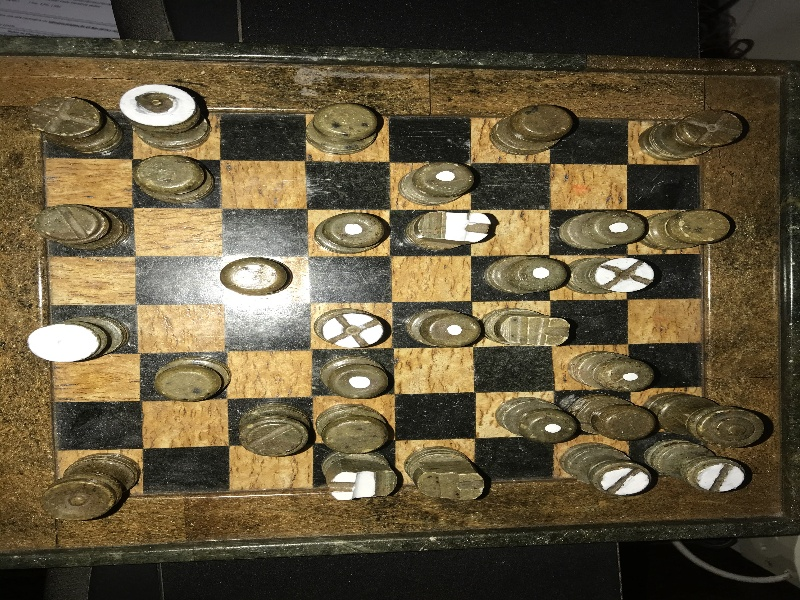WhiteBishop: (563, 258, 653, 294), (312, 309, 383, 347)
WhitePawn: (496, 397, 574, 442), (398, 159, 474, 205), (570, 351, 652, 392), (560, 211, 644, 249), (405, 308, 480, 349), (484, 256, 566, 293), (318, 356, 387, 398), (315, 213, 384, 254)
WhiteRook: (644, 438, 743, 492), (562, 442, 649, 496)
